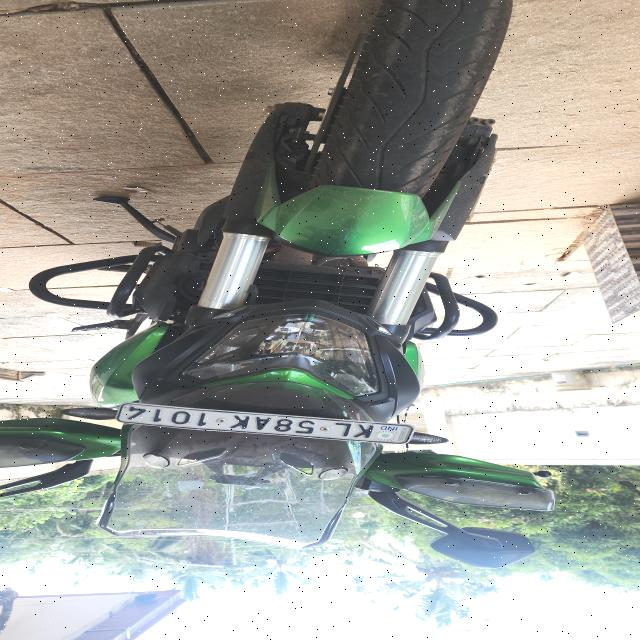headlight: (178, 312, 384, 399)
